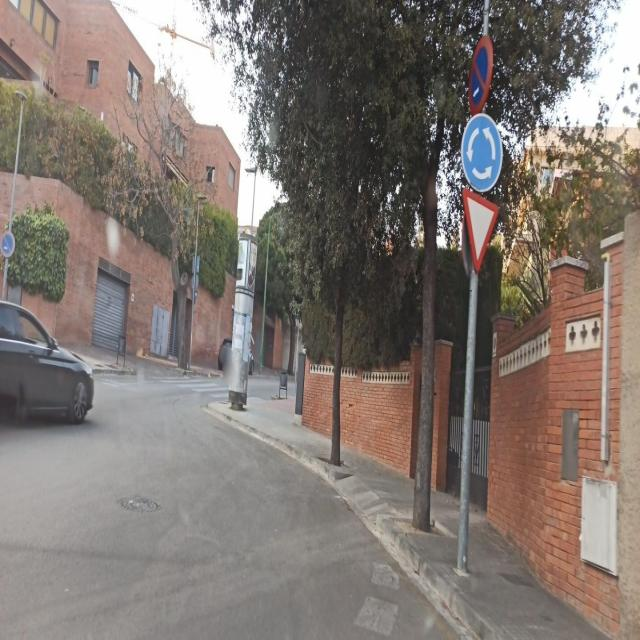forb_stopping: (1, 231, 16, 258)
forb_waiting: (467, 37, 493, 116)
